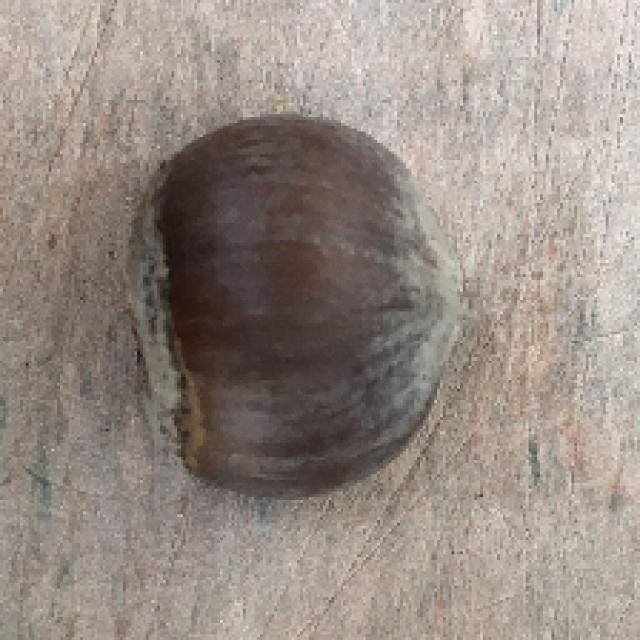damagedHazelnut: (119, 110, 477, 496)
